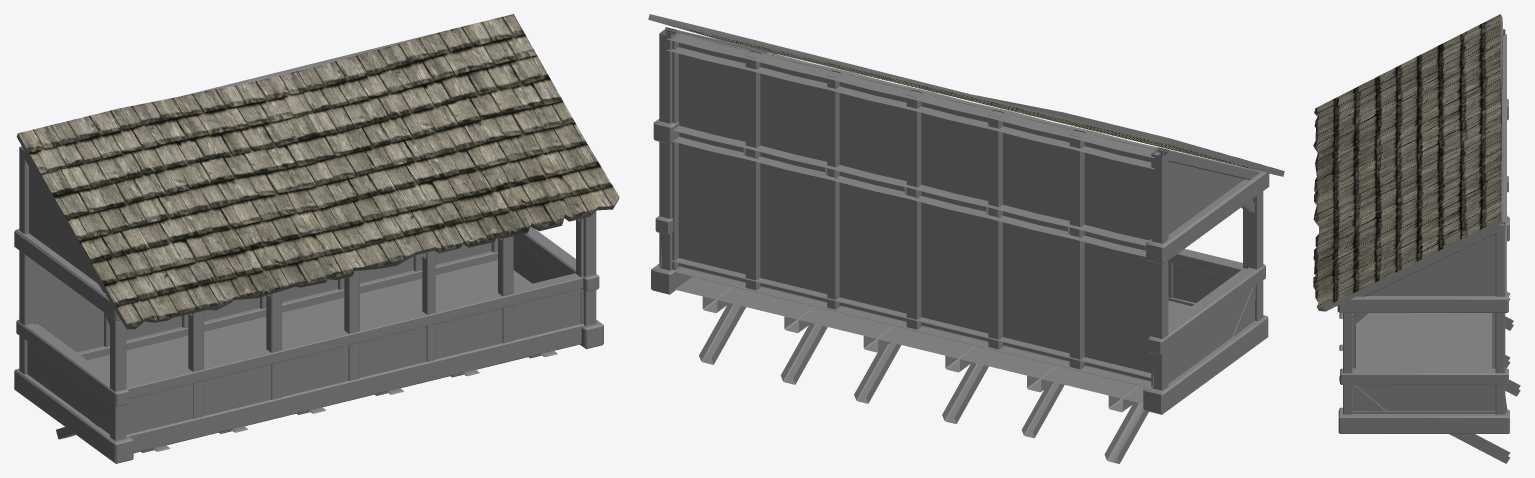
File: balustrade_1.fbx
3 renders of one model, left to right at view 1: azimuth 30°, elevation 25°; view 2: azimuth 150°, elevation 25°; view 3: azimuth 270°, elevation 25°, orthographic. The views are drawn at different scales.
Parts seen in each view (by area): view 1: Mesh; view 2: Mesh; view 3: Mesh.
Boxes of the visible parts, box(x1,y1,x2,y2) form: Mesh: box(14, 14, 619, 463); Mesh: box(648, 14, 1284, 463); Mesh: box(1313, 14, 1520, 463).
Size of the model in its own units: 1264 by 777 by 545.
